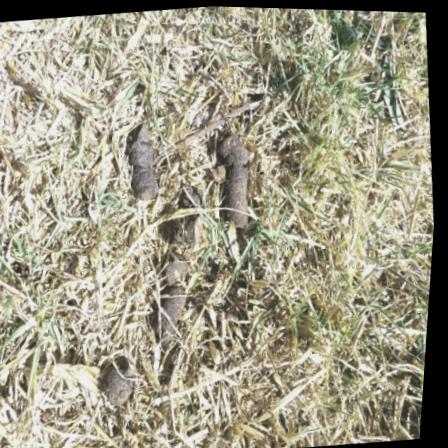dog-poop: (146, 183, 226, 341), (219, 123, 266, 233), (123, 122, 165, 200), (98, 361, 147, 415)
